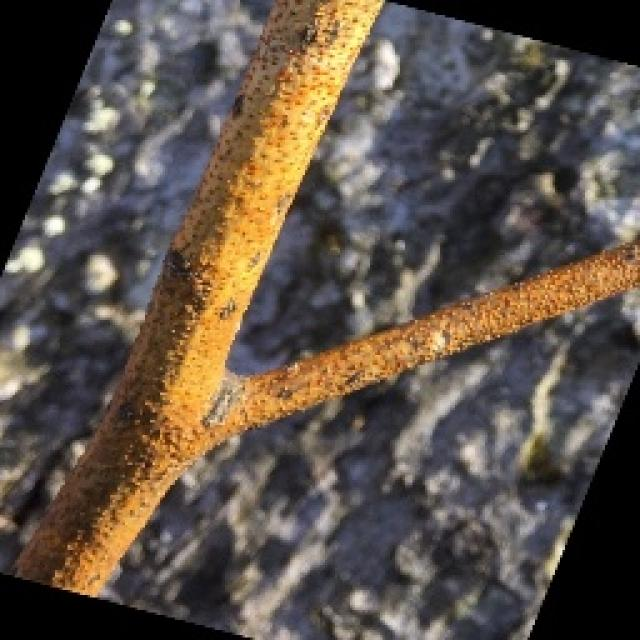Golden_canker: (40, 17, 627, 640)
